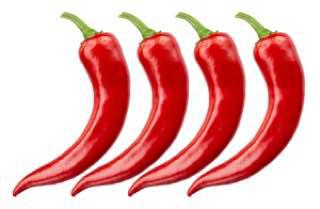lada merah: (74, 24, 196, 199), (14, 22, 130, 202), (130, 26, 248, 196), (191, 28, 307, 198)
